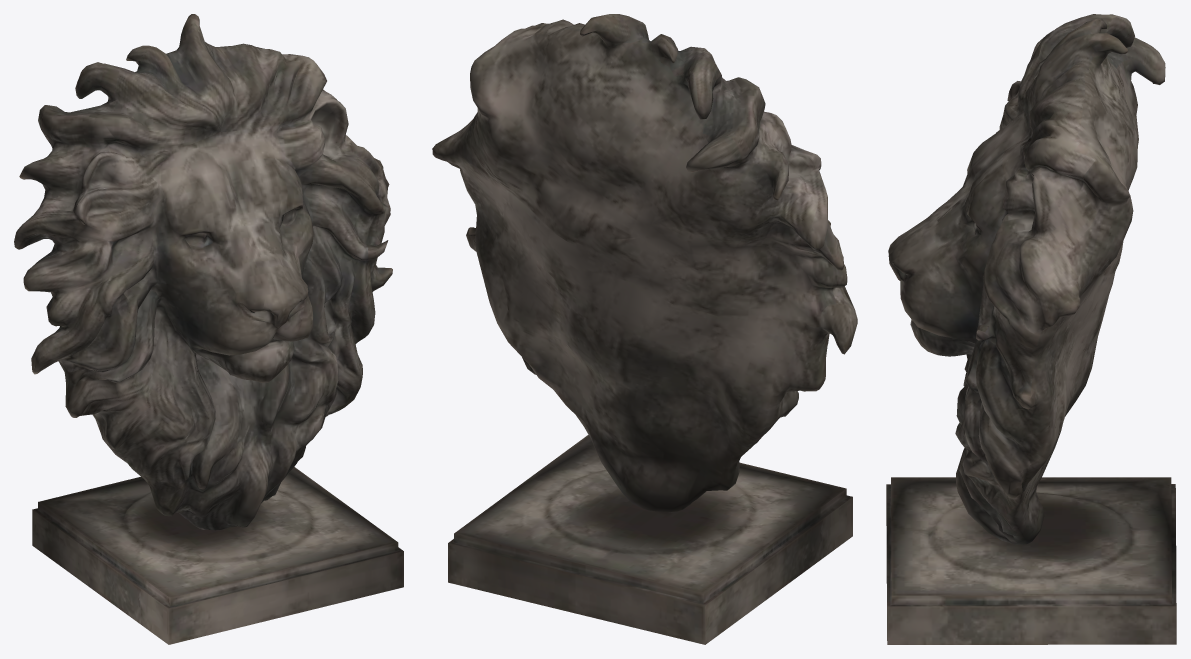
Rendered from lion_head.glb.
3 views of the same model, side by side, from view 1: azimuth 30°, elevation 25°; view 2: azimuth 150°, elevation 25°; view 3: azimuth 270°, elevation 25° (orthographic). The views are drawn at different scales.
Visible parts, largest first — view 1: lion_head; view 2: lion_head; view 3: lion_head.
Part boxes in pixels (left/top/right/bottom): lion_head: left=14, top=14, right=403, bottom=644; lion_head: left=432, top=14, right=857, bottom=644; lion_head: left=886, top=14, right=1176, bottom=644.
Size of the model in its own units: 0.3208 by 0.4358 by 0.2066.
1 material, 1 textured.
